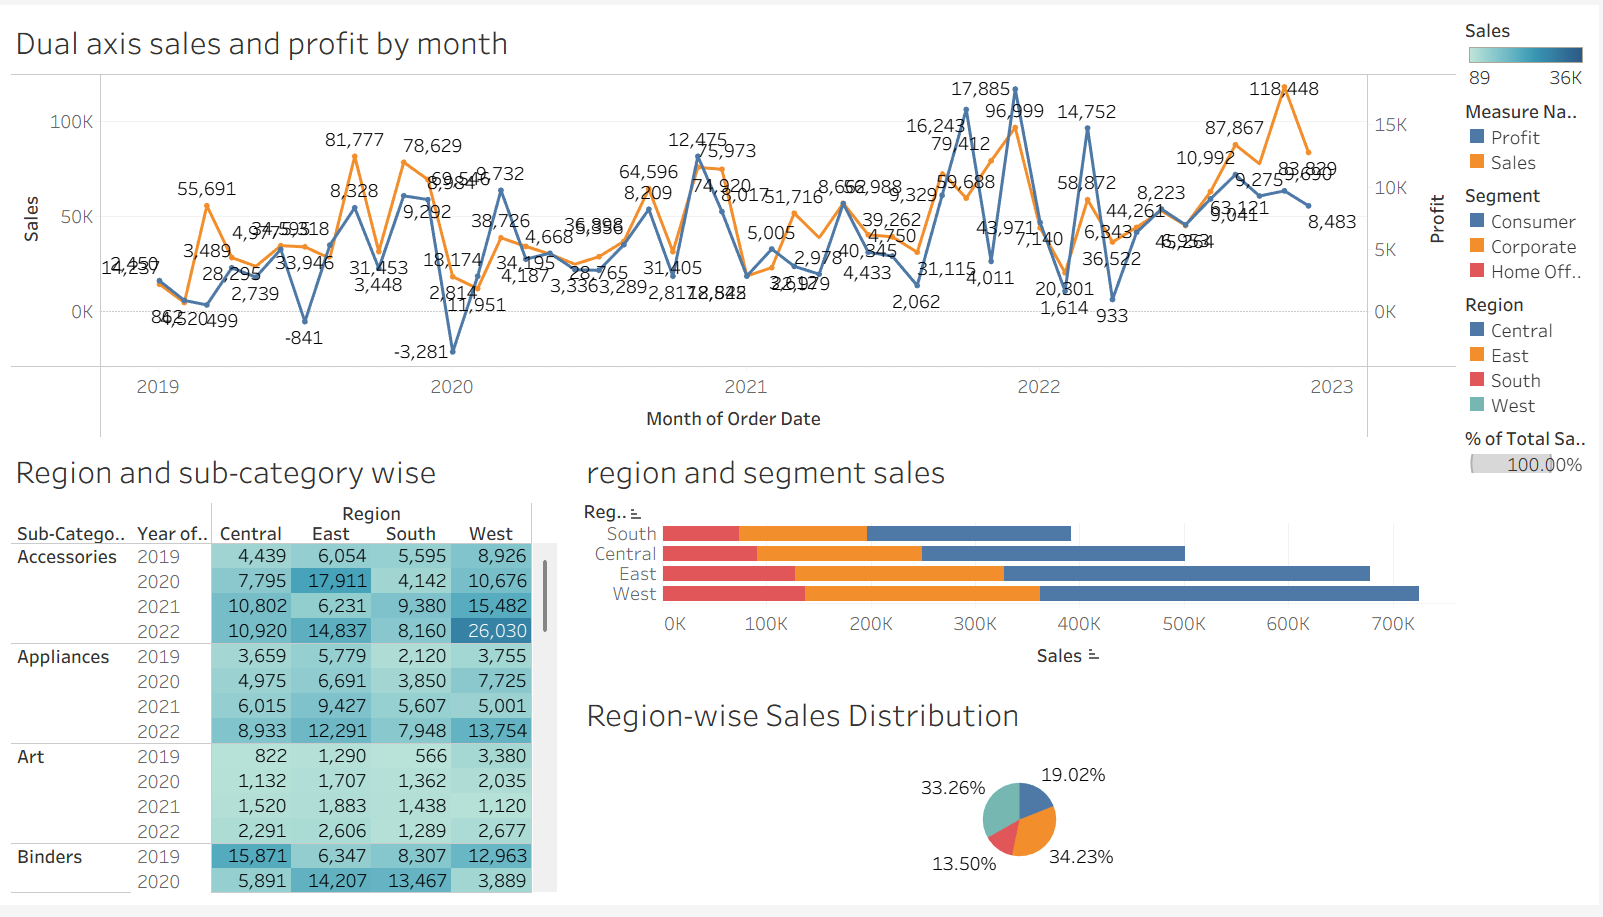

What the dashboard file says about the page in this screenshot:
{"tool":"tableau","page":{"name":"Dashboard 2","canvas":[1600,900],"ordinal":1},"visuals":[{"type":"worksheet","title":"Dual axis sales and profit by month","mark":"Automatic","rows":["Sales","Profit"],"cols":["Order Date"],"box":[8,8,1454,429]},{"type":"legend","title":"Region and sub-category wise","param":"[federated.1laaqr218jjvc71bsnb8f1rjj3i1].[sum:Sales:qk]","box":[1462,8,130,81]},{"type":"legend","title":"Dual axis sales and profit by month","param":"[federated.1laaqr218jjvc71bsnb8f1rjj3i1].[:Measure Names]","box":[1462,89,130,84]},{"type":"legend","title":"region and segment sales","param":"[federated.1laaqr218jjvc71bsnb8f1rjj3i1].[none:Segment:nk]","box":[1462,173,130,109]},{"type":"legend","title":"Region-wise Sales Distribution","param":"[federated.1laaqr218jjvc71bsnb8f1rjj3i1].[none:Region:nk]","box":[1462,282,130,134]},{"type":"legend","title":"Region-wise Sales Distribution","param":"[federated.1laaqr218jjvc71bsnb8f1rjj3i1].[pcto:sum:Sales:qk:1]","box":[1462,416,130,59]},{"type":"worksheet","title":"Region and sub-category wise","mark":"Square","rows":["Sub-Category","Order Date"],"cols":["Region"],"box":[8,437,571,455]},{"type":"worksheet","title":"region and segment sales","mark":"Automatic","rows":["Region"],"cols":["Sales"],"box":[579,437,883,243]},{"type":"worksheet","title":"Region-wise Sales Distribution","mark":"Pie","box":[579,680,883,212]}]}

Visuals, with their boxes in screenshot pixels (x1, y1, x2, y2), scaled from the page's 1600x900 canvas onto the 1603x917 screenshot:
"Dual axis sales and profit by month" worksheet: rect(8, 8, 1465, 445)
"Region and sub-category wise" legend: rect(1465, 8, 1595, 91)
"Dual axis sales and profit by month" legend: rect(1465, 91, 1595, 176)
"region and segment sales" legend: rect(1465, 176, 1595, 287)
"Region-wise Sales Distribution" legend: rect(1465, 287, 1595, 424)
"Region-wise Sales Distribution" legend: rect(1465, 424, 1595, 484)
"Region and sub-category wise" worksheet (Square marks): rect(8, 445, 580, 909)
"region and segment sales" worksheet: rect(580, 445, 1465, 693)
"Region-wise Sales Distribution" worksheet (Pie marks): rect(580, 693, 1465, 909)
